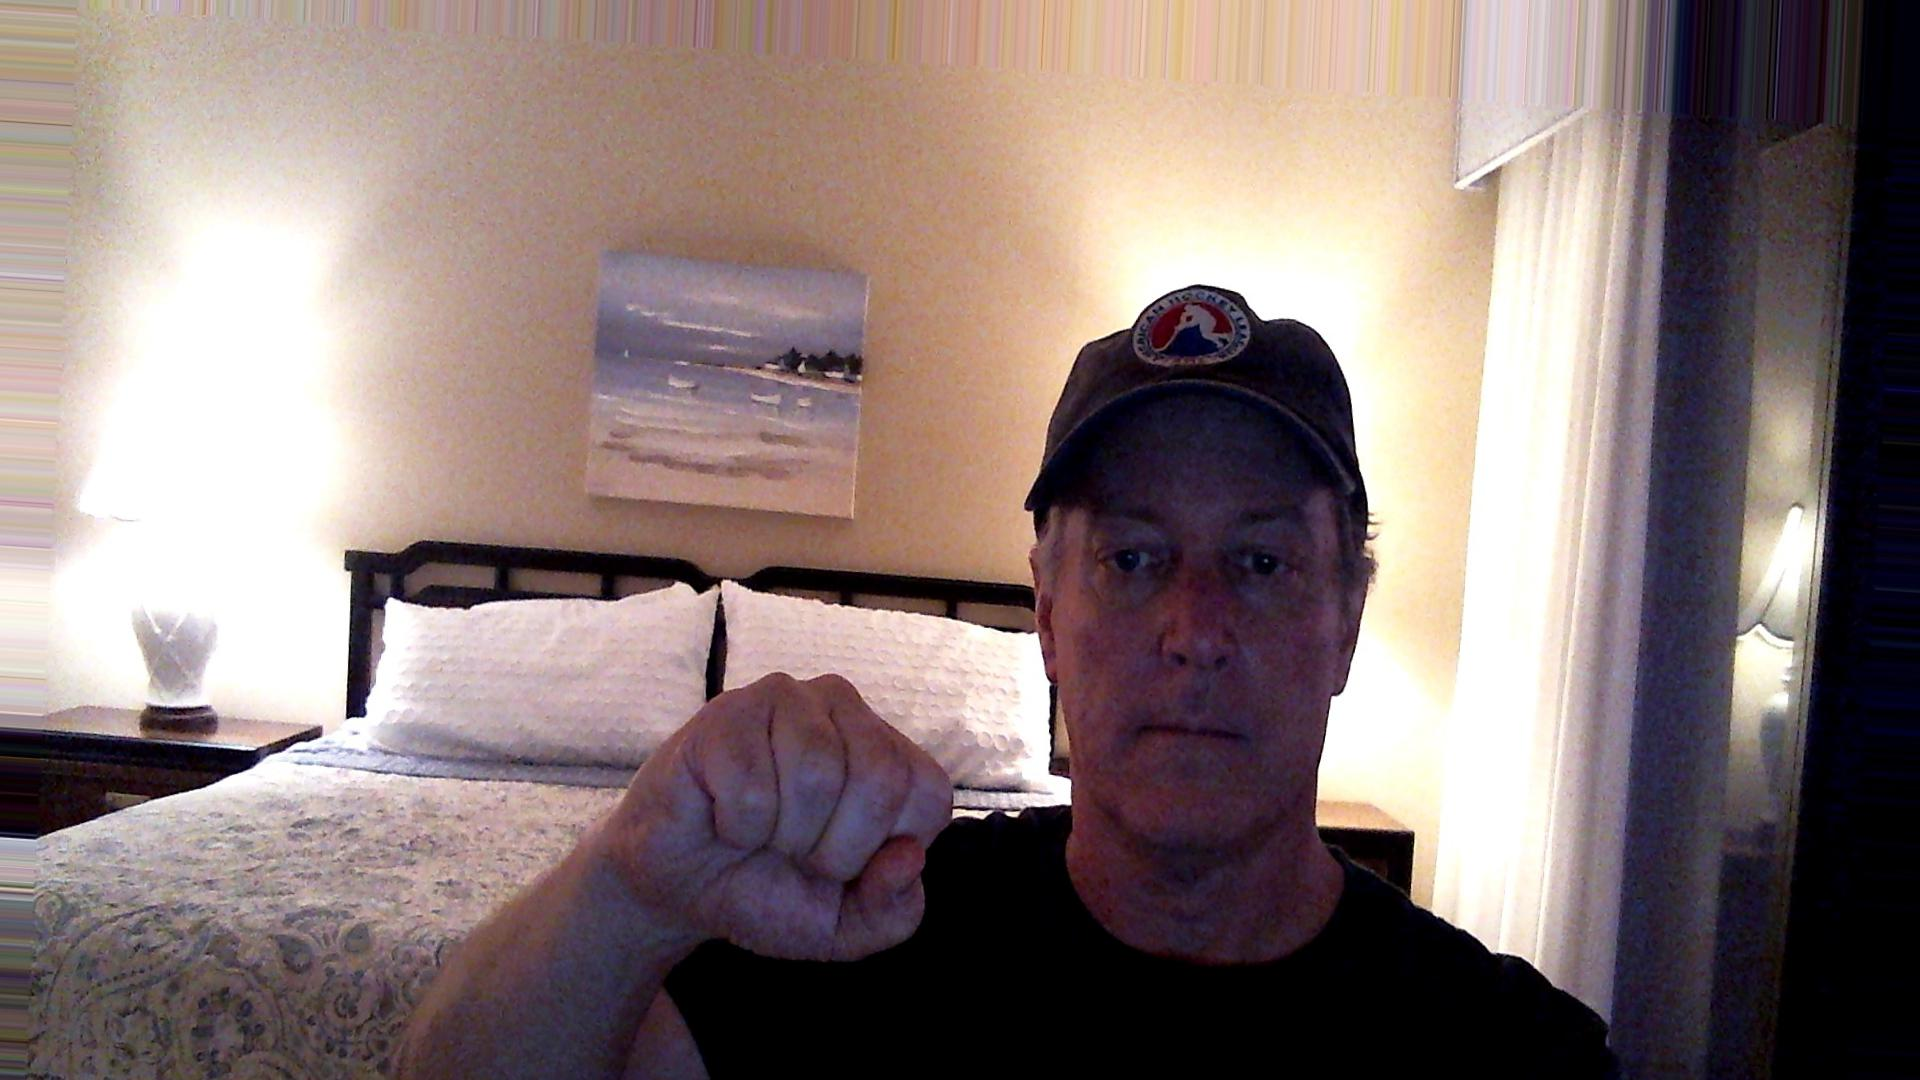Yes: (582, 646, 1000, 980)
